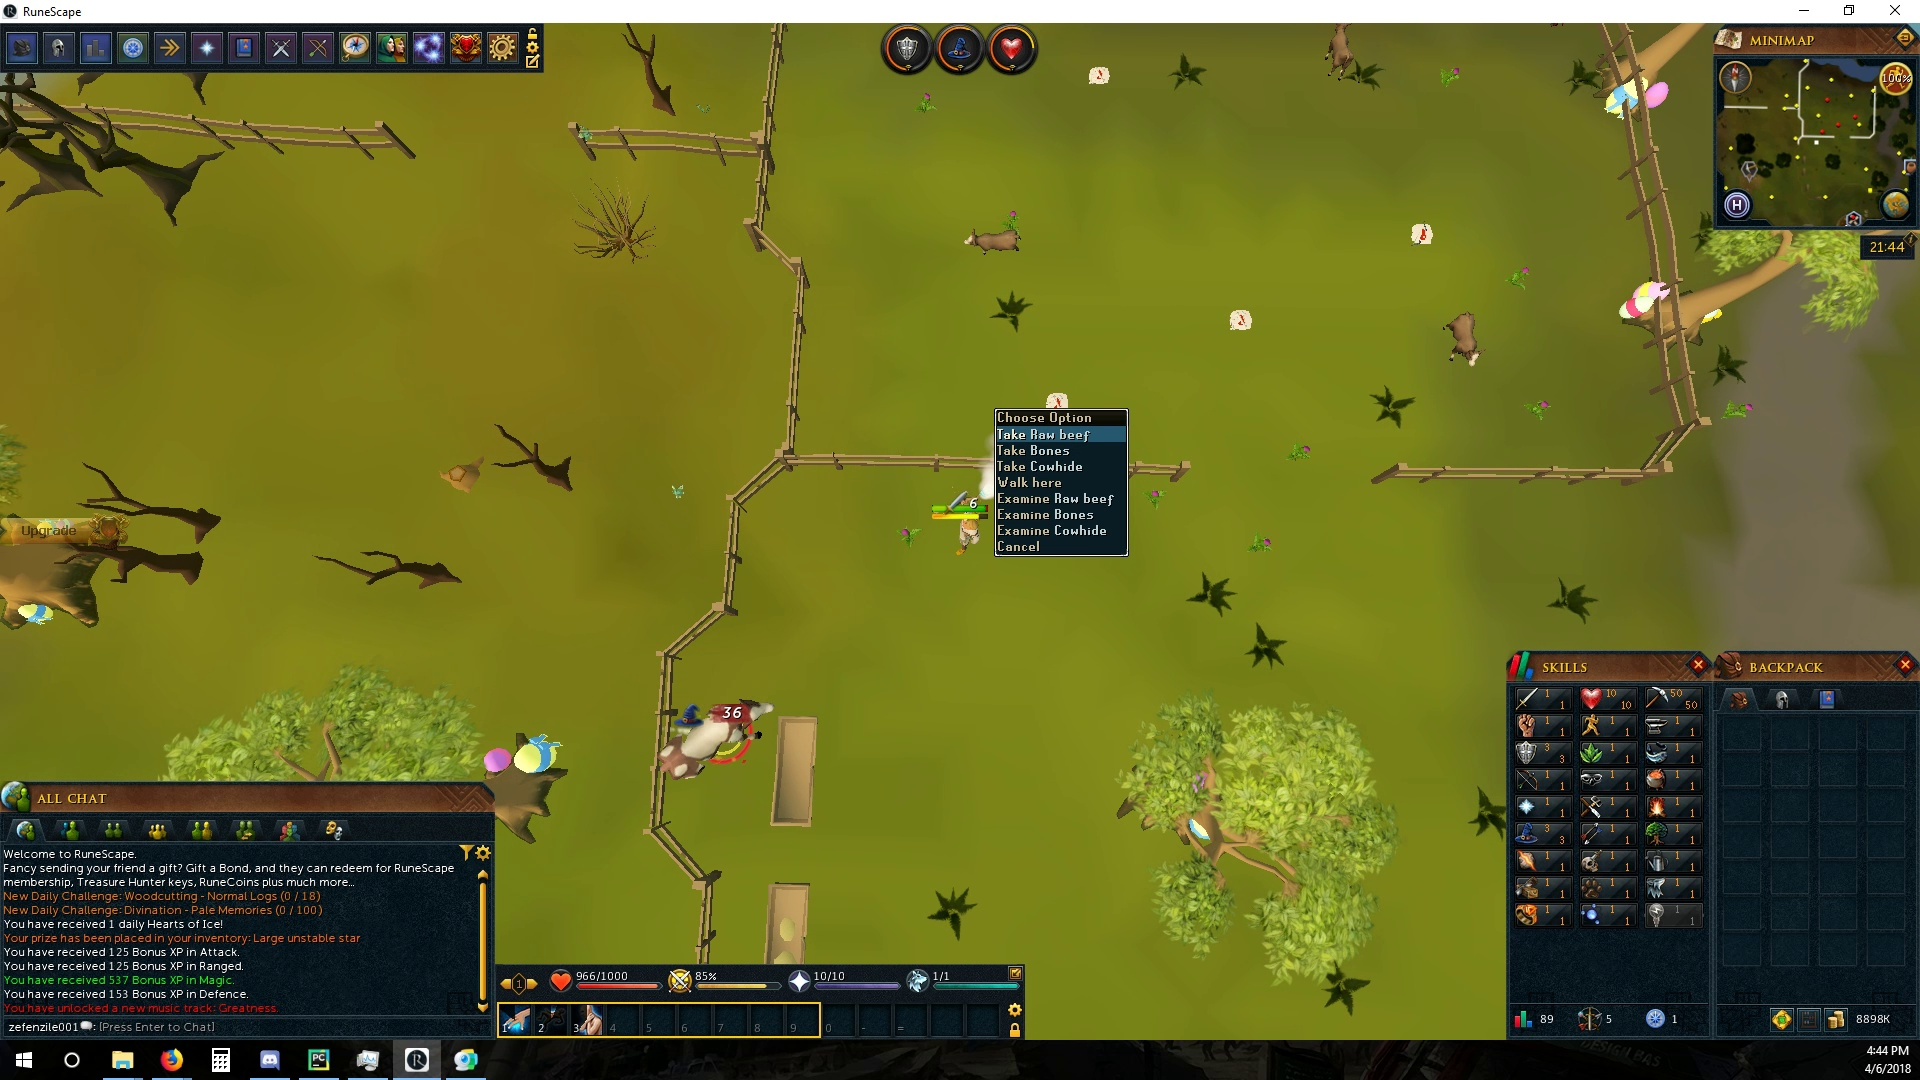calf: (1444, 311, 1484, 368), (959, 225, 1022, 257), (1324, 22, 1358, 80)
cow: (649, 694, 781, 786)
cow_drop: (1408, 222, 1437, 249), (1226, 309, 1253, 334), (1048, 389, 1071, 411), (1091, 65, 1112, 88)
